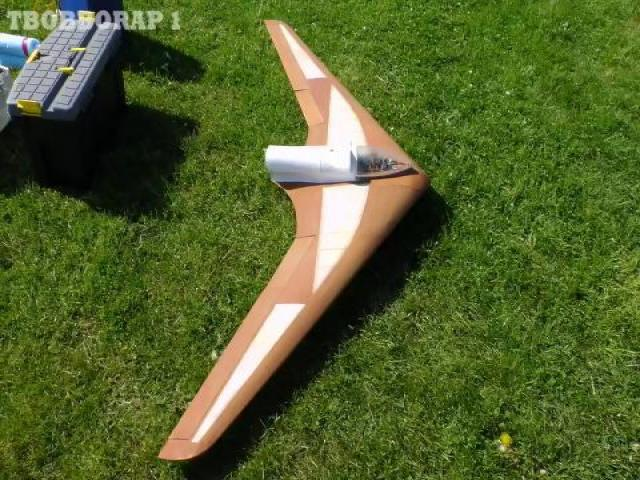flying wing: (155, 16, 434, 470)
